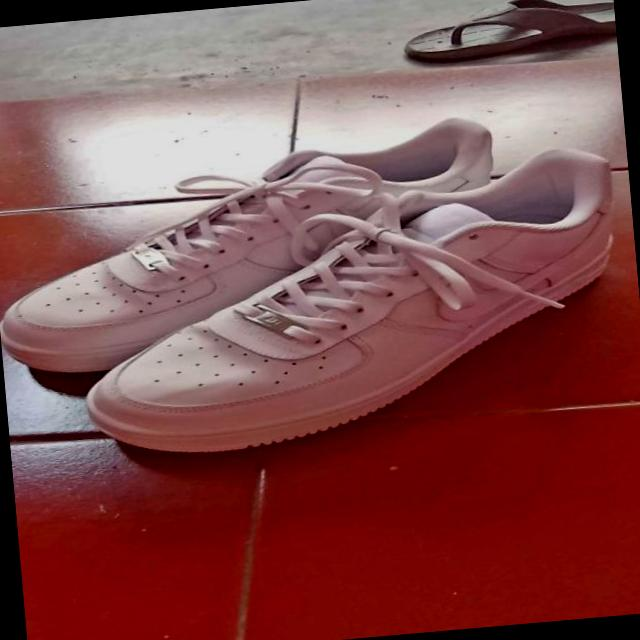nike_fake_airforce: (69, 180, 640, 467), (0, 120, 513, 393)
